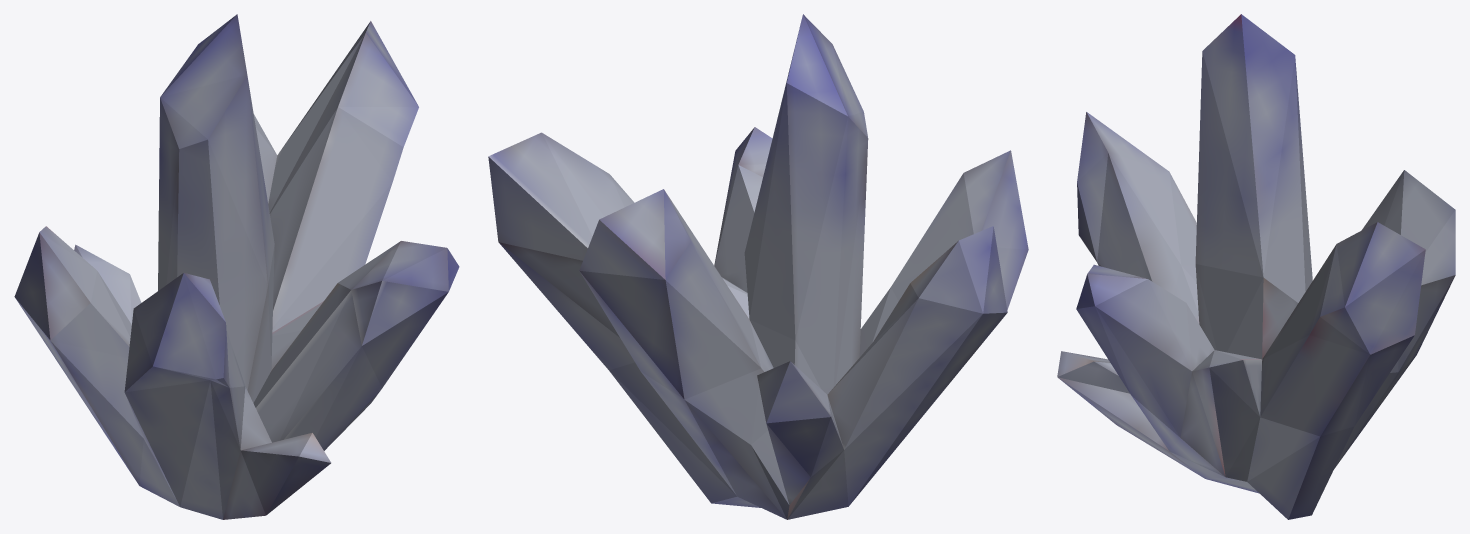
Rendered from Crystal.fbx.
3 views of the same model, side by side, from view 1: azimuth 30°, elevation 25°; view 2: azimuth 150°, elevation 25°; view 3: azimuth 270°, elevation 25° (orthographic). The views are drawn at different scales.
Visible parts, largest first — view 1: crystal; view 2: crystal; view 3: crystal.
Part boxes in pixels (x1,y1,x2,y2): crystal: (14,14,459,519); crystal: (488,14,1028,519); crystal: (1057,14,1455,519).
Bounding box in the file's own units: 0.2543 × 0.2783 × 0.2075.
